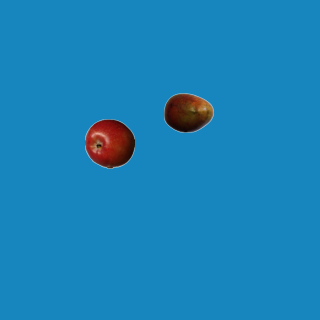Apple Braeburn: (84, 118, 134, 168)
Mango Red: (163, 87, 213, 137)
